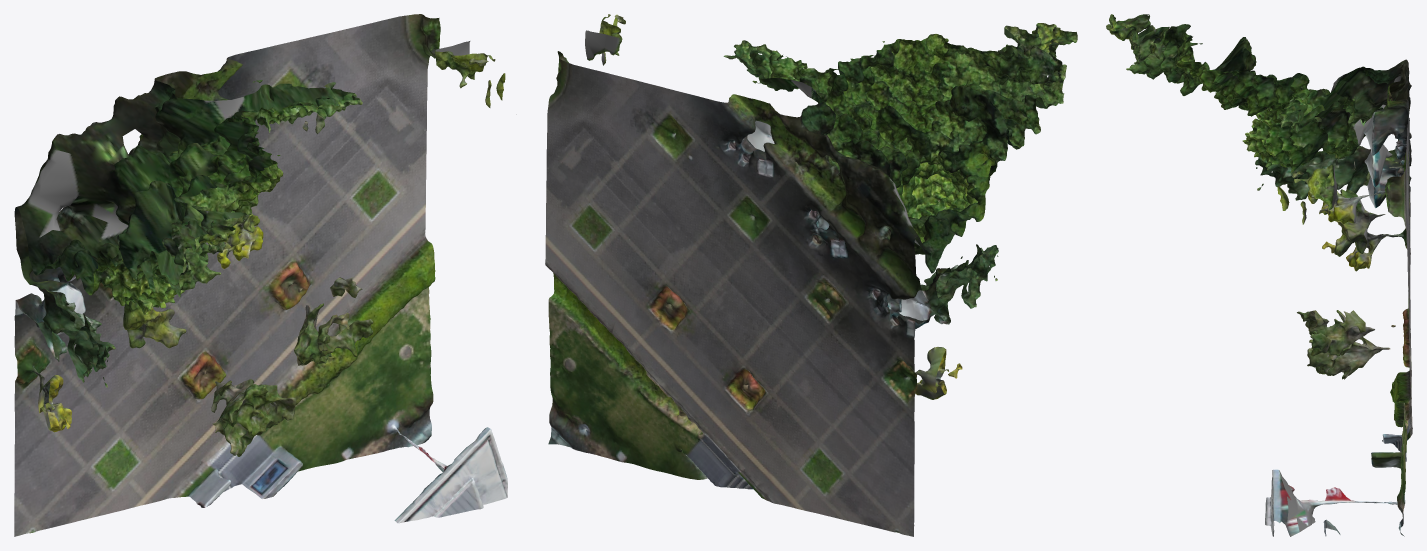
Rendered from Tile_+014_+024.fbx.
3 views of the same model, side by side, from view 1: azimuth 30°, elevation 25°; view 2: azimuth 150°, elevation 25°; view 3: azimuth 270°, elevation 25° (orthographic). The views are drawn at different scales.
Visible parts, largest first — view 1: DefaultName; view 2: DefaultName; view 3: DefaultName.
Boxes of the visible parts, x1,y1,x2,y2 form: DefaultName: (14,14,507,536); DefaultName: (545,14,1077,536); DefaultName: (1106,14,1412,536).
Size of the model in its own units: 22.54 by 22.54 by 17.58.
